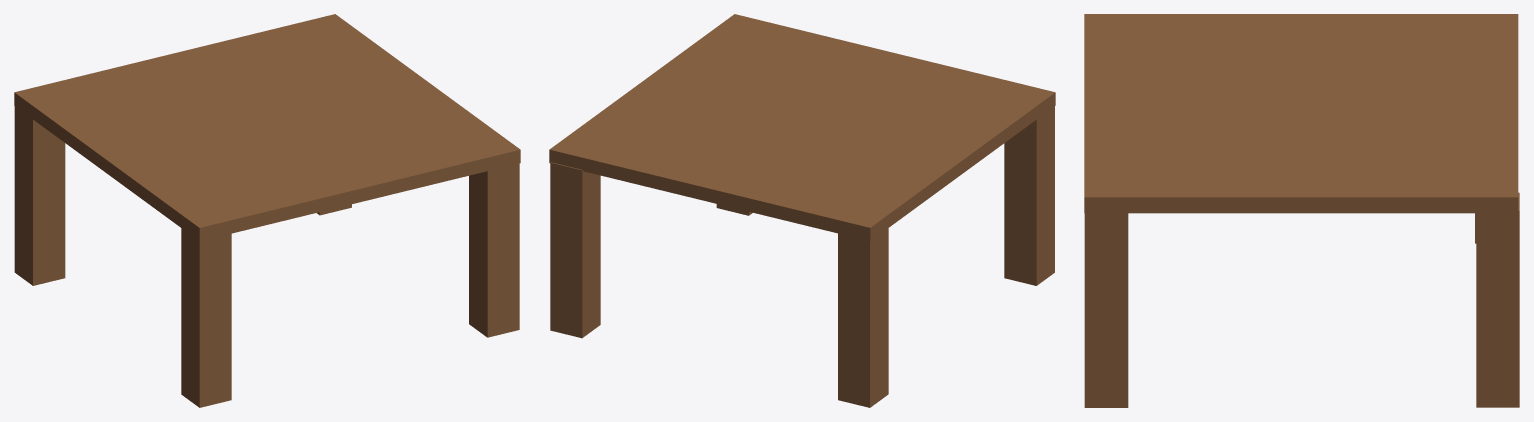
File: stół.fbx
The picture shows the model from 3 angles, left to right: view 1: azimuth 30°, elevation 25°; view 2: azimuth 150°, elevation 25°; view 3: azimuth 270°, elevation 25°; orthographic projection. The views are drawn at different scales.
Parts seen in each view (by area): view 1: Cube, Cube.003, Cube.004, Cube.002; view 2: Cube, Cube.002, Cube.001, Cube.003; view 3: Cube, Cube.004, Cube.001.
Part boxes in pixels (x1,y1,x2,y2): Cube: (14,14,520,241); Cube.003: (181,228,231,407); Cube.004: (469,163,519,337); Cube.002: (14,106,65,285); Cube: (549,14,1055,241); Cube.002: (838,228,888,407); Cube.001: (550,162,600,338); Cube.003: (1004,106,1054,285); Cube: (1084,14,1518,213); Cube.004: (1084,213,1128,407); Cube.001: (1476,192,1519,407).
Size of the model in its own units: 200 by 107 by 201.
